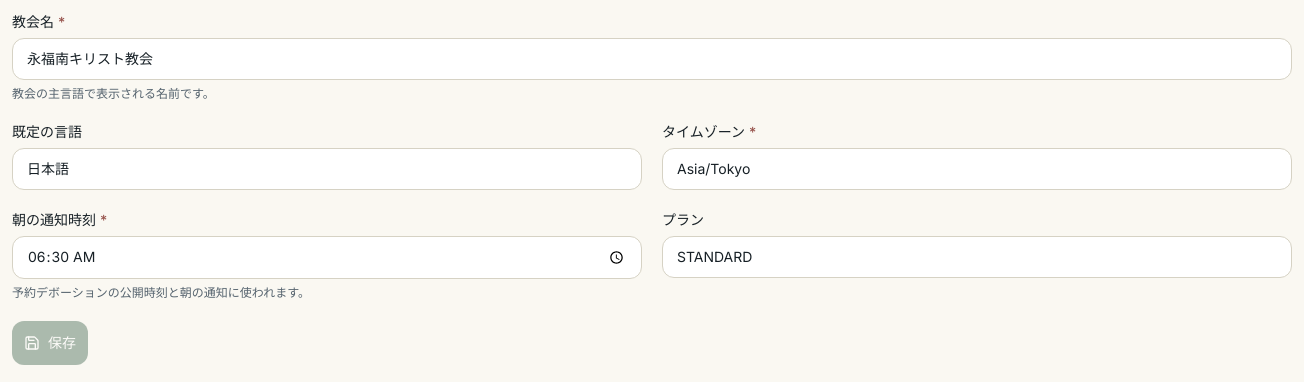
Test: ChurchBasicsEditor › saves an updated morning notification time
The image size is (1304, 382).
Replace the text in the time field with test id "church-morning-time" with "07:15". click: (327, 257)
box: [12,236,642,279]
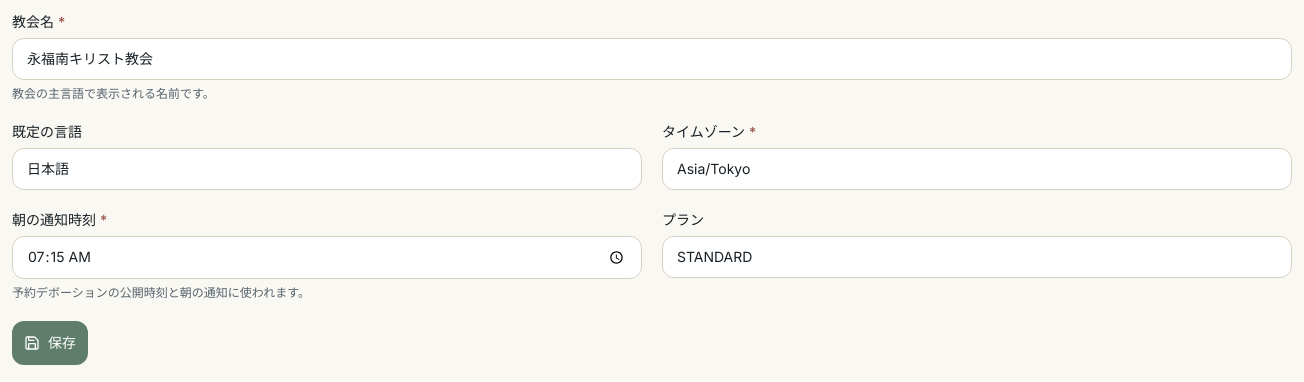
Click the button with test id "church-basics-save". click: (50, 343)
box: [12,321,88,365]
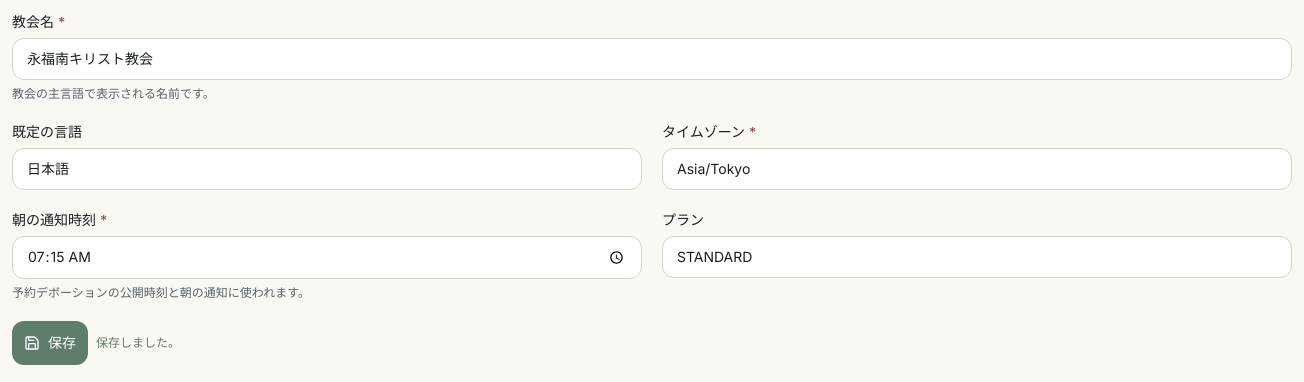
Check: the text "保存しました。" is shown, box [96,335,180,351]
